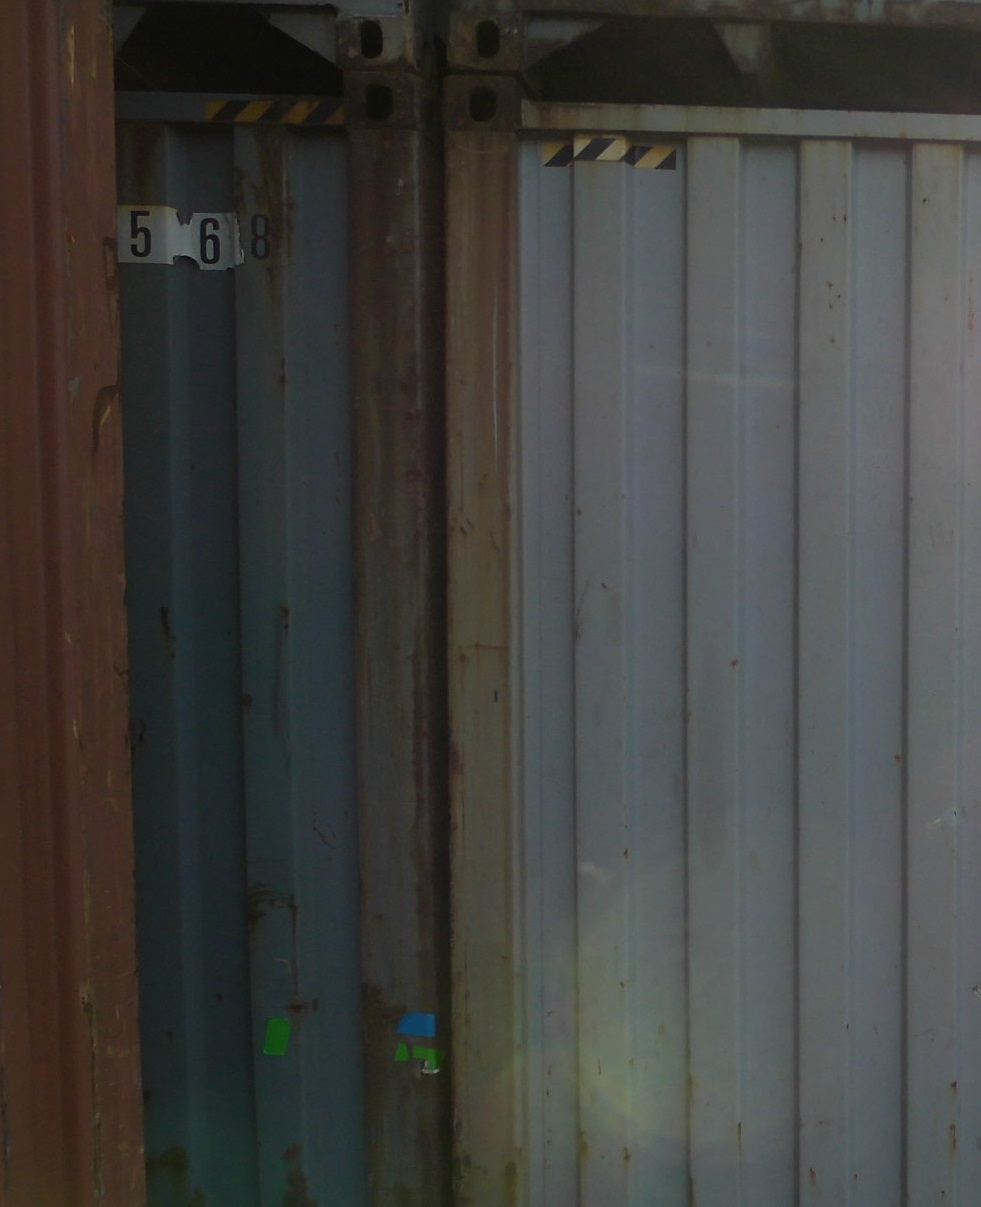container_no_door: (436, 76, 976, 1201)
